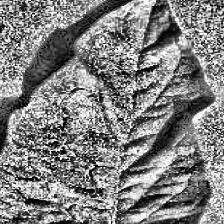spider mites: (0, 0, 215, 224)
